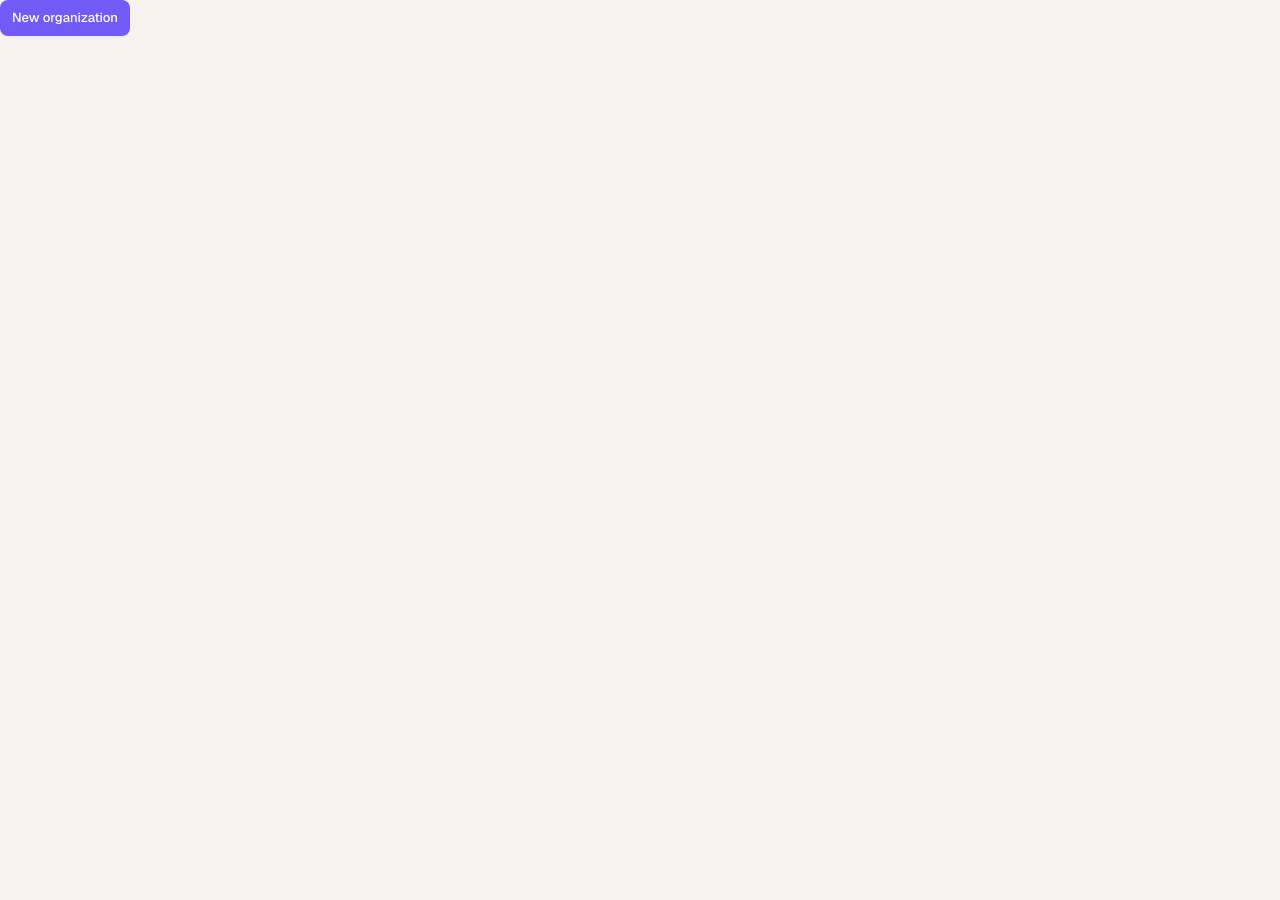
Test case: NewOrgDialog modules section › defaults every module off and submits the chosen features
This screenshot has width=1280, height=900.
Later steps or results of the test are not shown.
Click the button "New organization" at coordinates (65, 18), box [0,0,130,36]
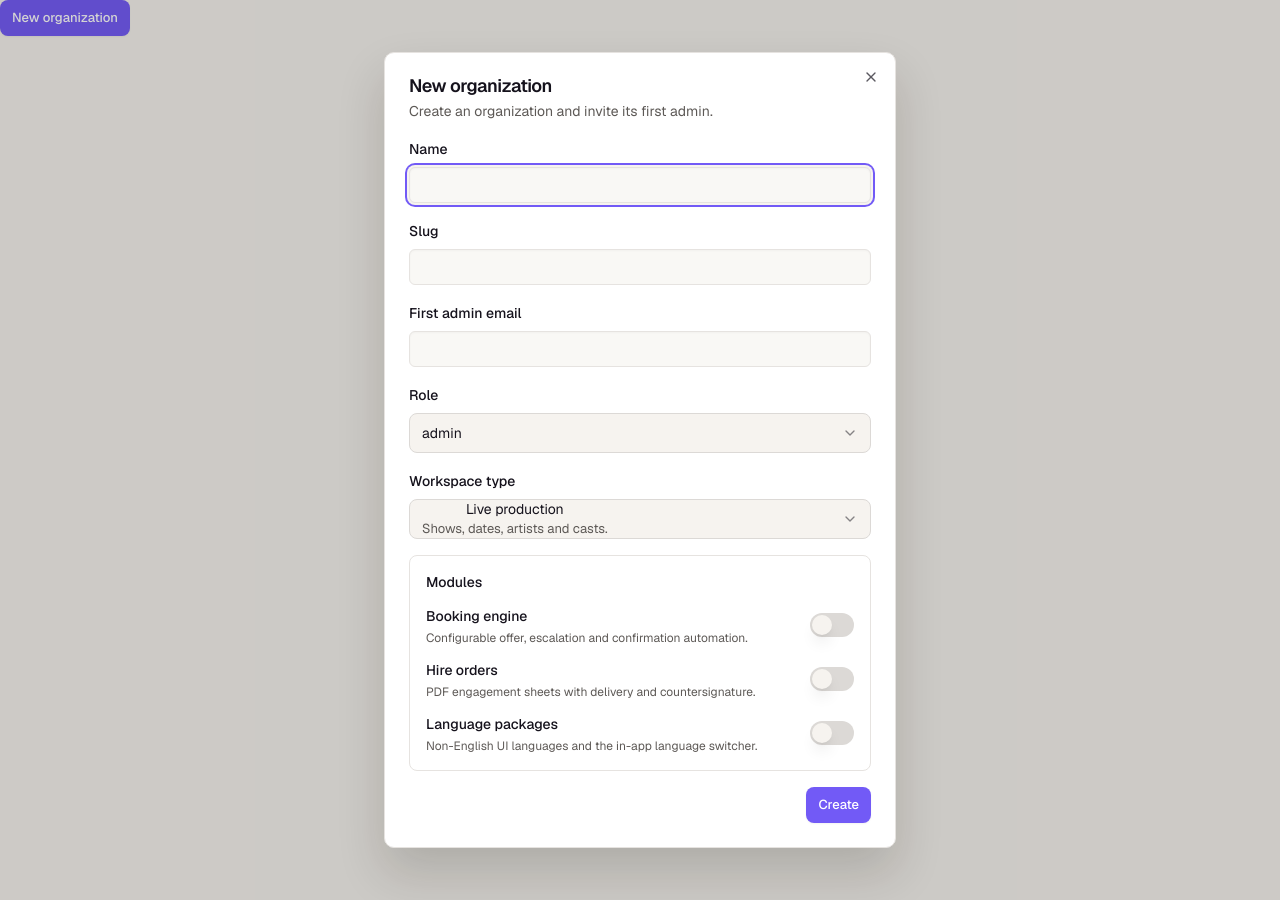
Type "Acme" into the field labelled "Name" at coordinates (640, 185), box [409,167,871,203]
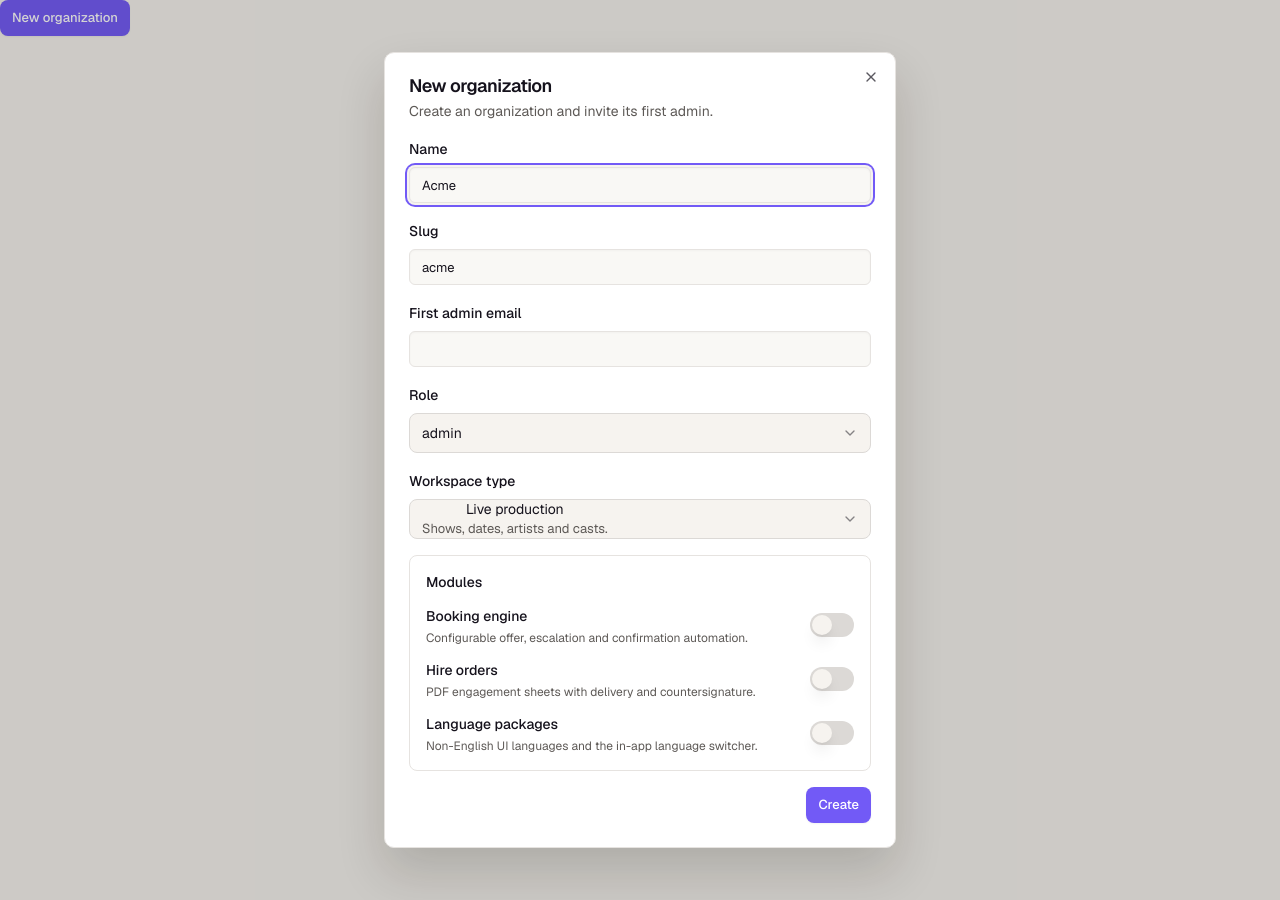
Type "a@acme.com" into the field labelled "First admin email" at coordinates (640, 349), box [409,331,871,367]
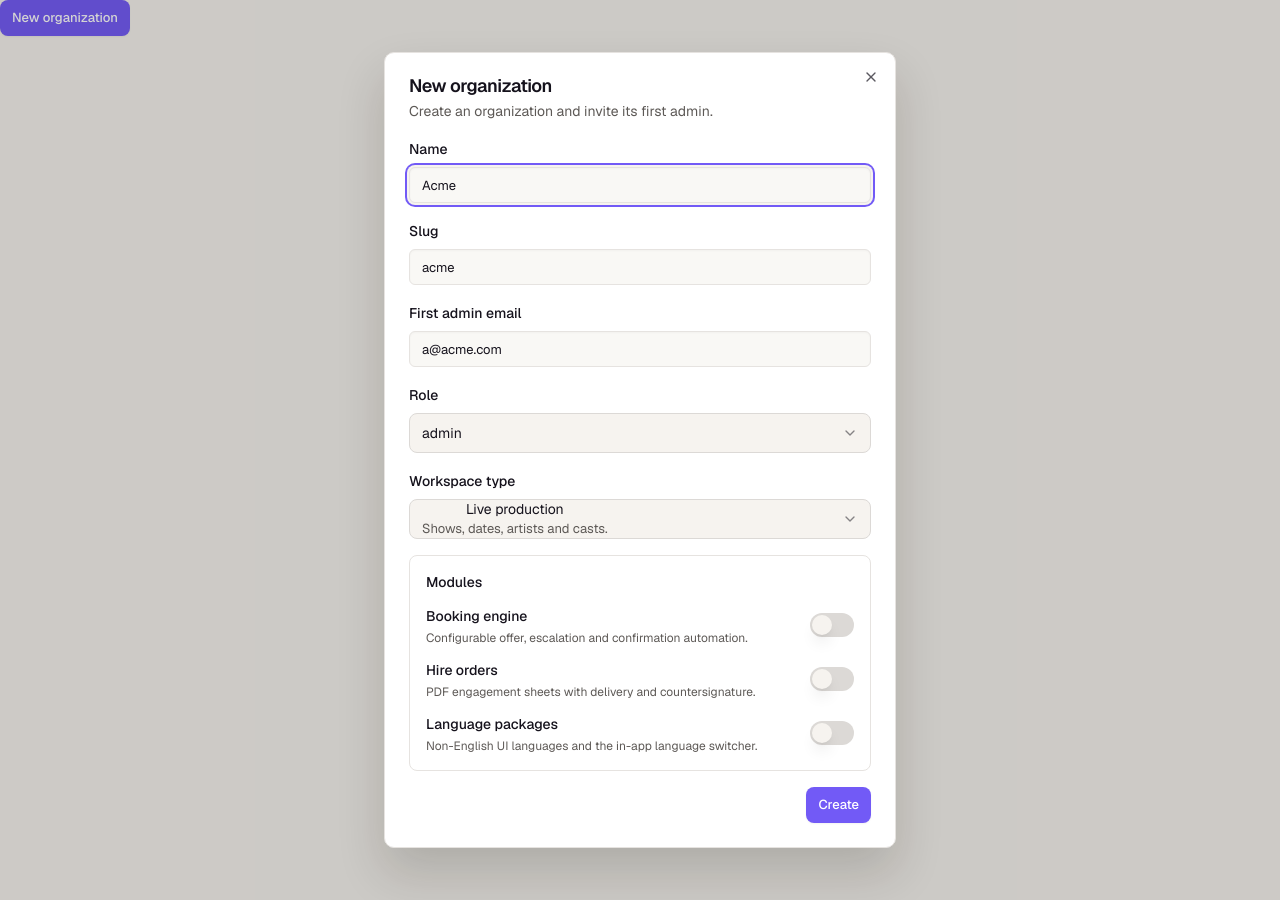
expect the switch named "Booking engine" is not checked: met, box [810,613,854,637]
expect the switch named "Hire orders" is not checked: met, box [810,667,854,691]
